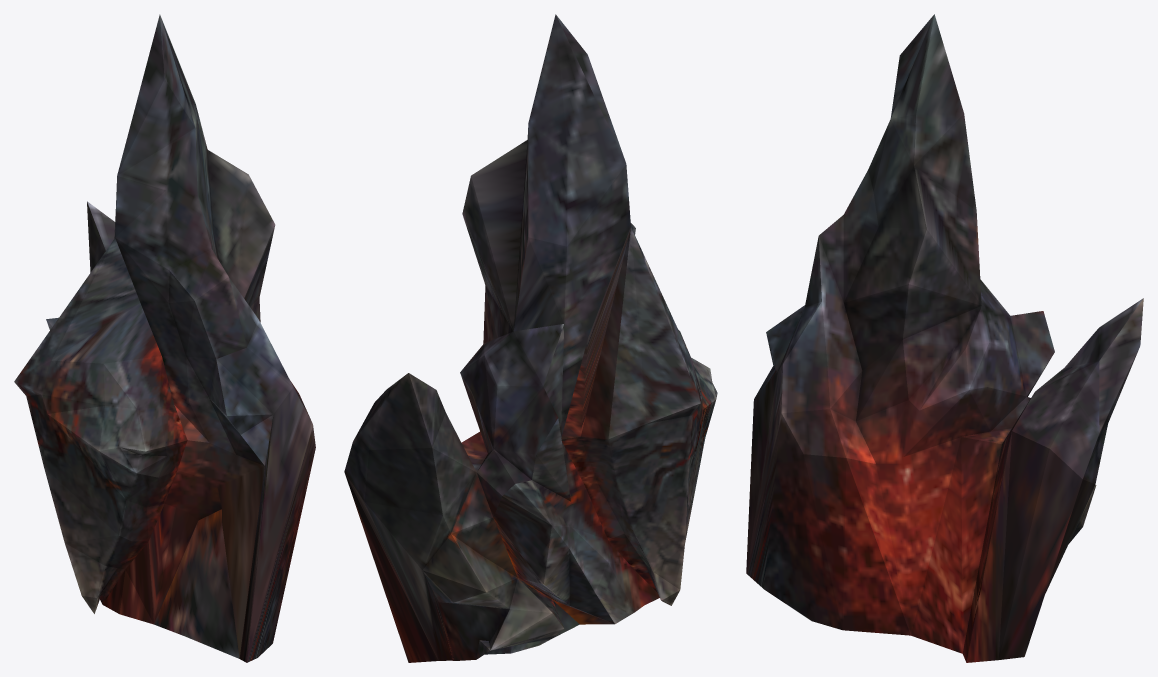
The model's file is Rock.FBX.
3 renders of one model, left to right at view 1: azimuth 30°, elevation 25°; view 2: azimuth 150°, elevation 25°; view 3: azimuth 270°, elevation 25°, orthographic. The views are drawn at different scales.
Parts seen in each view (by area): view 1: Rocke; view 2: Rocke; view 3: Rocke.
Boxes of the visible parts, x1,y1,x2,y2 form: Rocke: (14, 14, 315, 662); Rocke: (344, 14, 717, 662); Rocke: (746, 14, 1143, 662).
Size of the model in its own units: 7.92 by 17.27 by 10.36.
